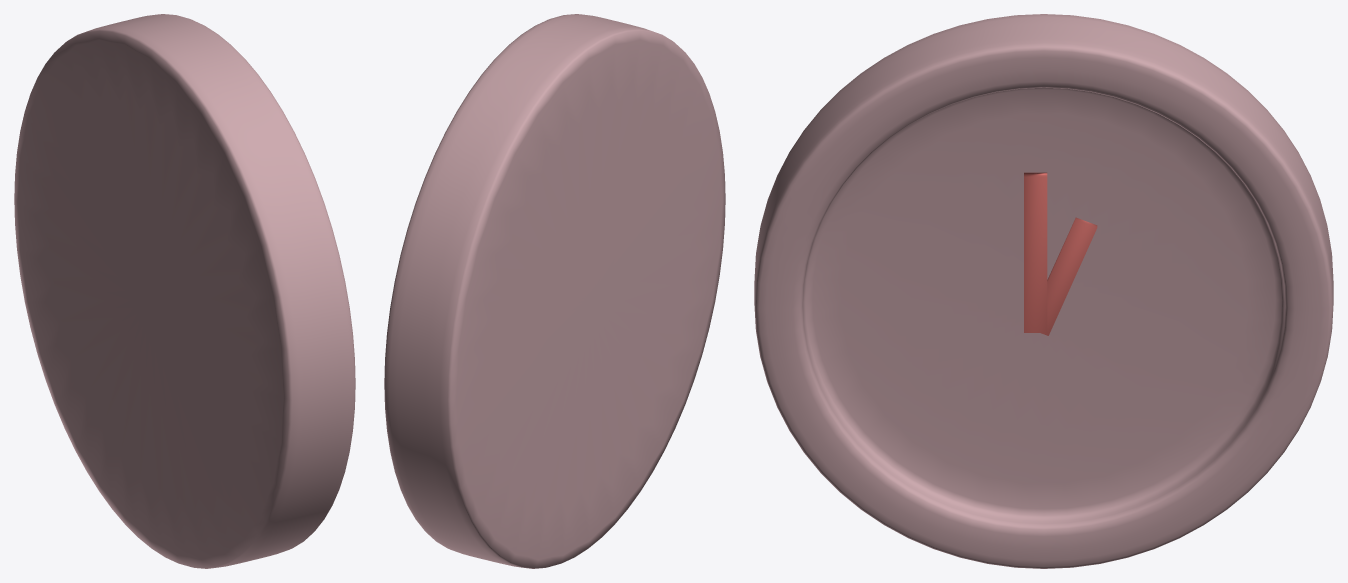
The model's file is watch.fbx.
The picture shows the model from 3 angles, left to right: view 1: azimuth 30°, elevation 25°; view 2: azimuth 150°, elevation 25°; view 3: azimuth 270°, elevation 25°; orthographic projection. The views are drawn at different scales.
Parts seen in each view (by area): view 1: Cylinder.001; view 2: Cylinder.001; view 3: Cylinder.001, Cube.003.
Boxes of the visible parts, <box> form: Cylinder.001: <box>14,14,355,568</box>; Cylinder.001: <box>384,14,725,568</box>; Cylinder.001: <box>754,14,1333,568</box>; Cube.003: <box>1024,172,1097,335</box>.
Size of the model in its own units: 5.45 by 37.21 by 37.21.
